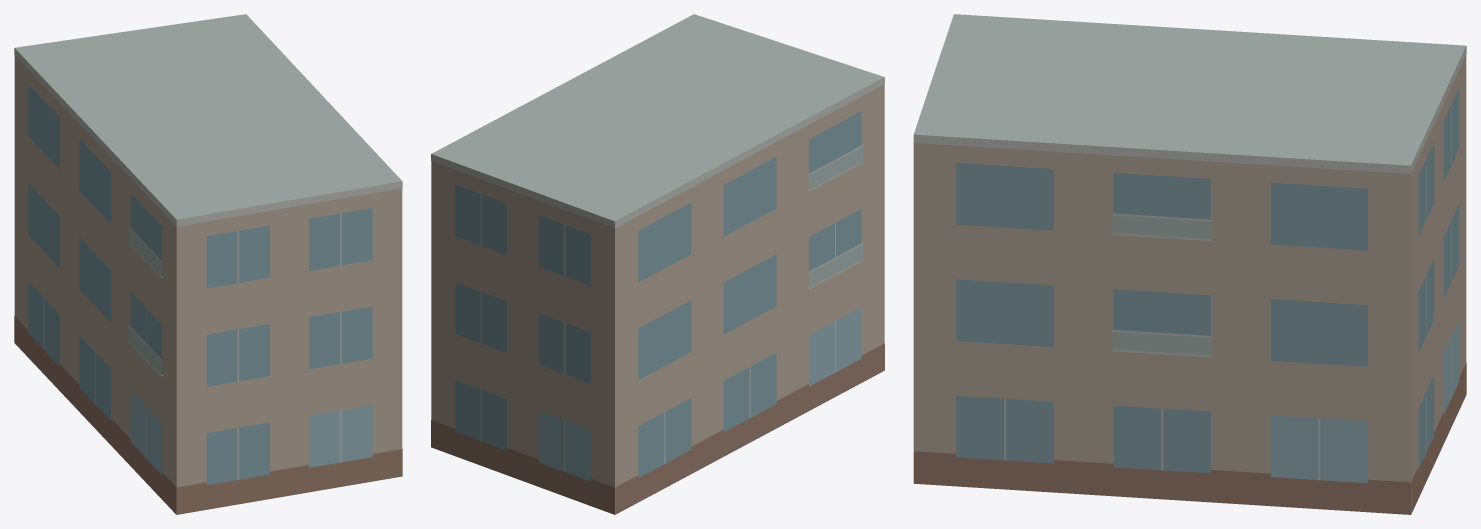
File: survey-upis-32653014.glb
The picture shows the model from 3 angles, left to right: view 1: azimuth 30°, elevation 25°; view 2: azimuth 150°, elevation 25°; view 3: azimuth 270°, elevation 25°; orthographic projection. The views are drawn at different scales.
Parts seen in each view (by area): view 1: survey-upis-32653014.tmp; view 2: survey-upis-32653014.tmp; view 3: survey-upis-32653014.tmp.
Part boxes in pixels (box(x1,y1,x2,y2)): survey-upis-32653014.tmp: box(14, 14, 402, 514); survey-upis-32653014.tmp: box(431, 14, 884, 514); survey-upis-32653014.tmp: box(913, 14, 1466, 514).
Bounding box in the file's own units: 9.52 × 10.2 × 14.65.
